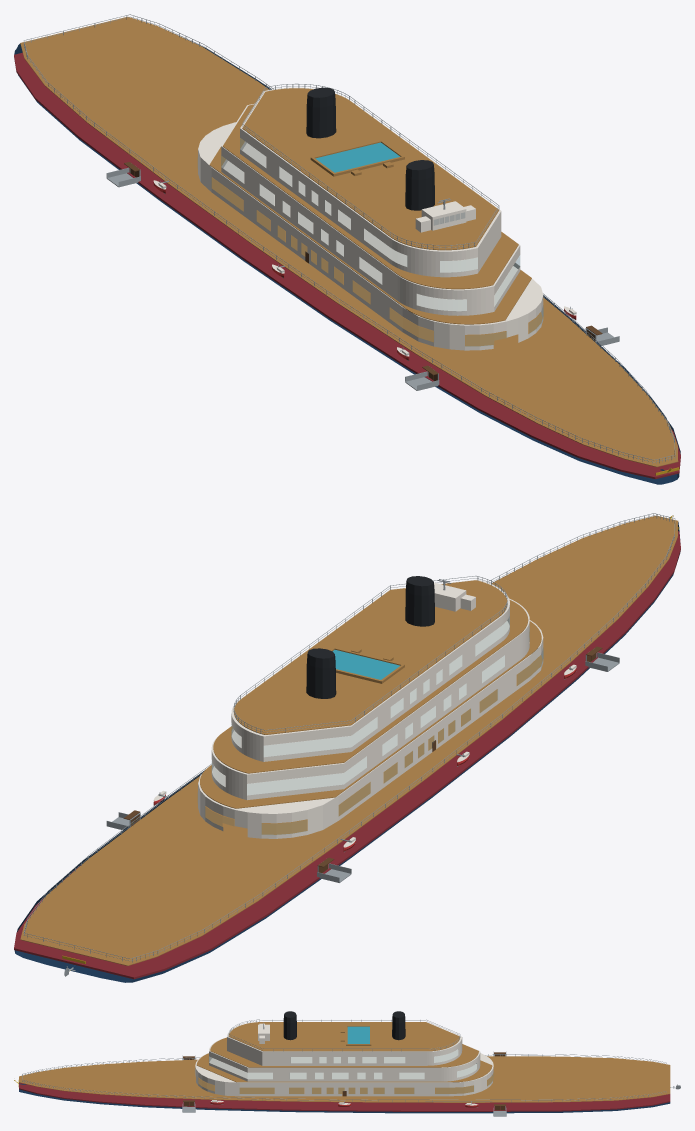
Rendered from 169-Crucero_exterior.glb.
The picture shows the model from 3 angles, top to bottom: view 1: azimuth 30°, elevation 25°; view 2: azimuth 150°, elevation 25°; view 3: azimuth 270°, elevation 25°; orthographic projection. The views are drawn at different scales.
Visible parts, largest first — view 1: SM_Crucero_Cubierta_1, SM_Crucero_Cubierta_4, SM_Crucero_Franja, SM_Crucero_Nivel_2, SM_Crucero_Nivel_1, SM_Crucero_Nivel_3, SM_Crucero_Cubierta_3, SM_Crucero_Baranda_Cub1, SM_Crucero_Casco, SM_Crucero_Cubierta_2, SM_Crucero_Ventanas_1, SM_Crucero_Ventanas_2 (+6 smaller); view 2: SM_Crucero_Cubierta_1, SM_Crucero_Cubierta_4, SM_Crucero_Franja, SM_Crucero_Nivel_2, SM_Crucero_Nivel_3, SM_Crucero_Nivel_1, SM_Crucero_Cubierta_3, SM_Crucero_Baranda_Cub1, SM_Crucero_Casco, SM_Crucero_Cubierta_2, SM_Crucero_Ventanas_2, SM_Crucero_Ventanas_3 (+5 smaller); view 3: SM_Crucero_Cubierta_1, SM_Crucero_Franja, SM_Crucero_Cubierta_4, SM_Crucero_Nivel_2, SM_Crucero_Nivel_1, SM_Crucero_Nivel_3, SM_Crucero_Baranda_Cub1, SM_Crucero_Casco, SM_Crucero_Cubierta_3, SM_Crucero_Cubierta_2, SM_Crucero_Ventanas_1, SM_Crucero_Ventanas_2 (+5 smaller).
Boxes of the visible parts, bbox=[...] form: SM_Crucero_Cubierta_1: bbox=[20, 16, 678, 467]; SM_Crucero_Cubierta_4: bbox=[242, 88, 498, 250]; SM_Crucero_Franja: bbox=[14, 52, 680, 479]; SM_Crucero_Nivel_2: bbox=[221, 103, 520, 315]; SM_Crucero_Nivel_1: bbox=[198, 122, 543, 350]; SM_Crucero_Nivel_3: bbox=[240, 87, 501, 277]; SM_Crucero_Cubierta_3: bbox=[222, 104, 518, 289]; SM_Crucero_Baranda_Cub1: bbox=[23, 14, 675, 463]; SM_Crucero_Casco: bbox=[14, 33, 680, 484]; SM_Crucero_Cubierta_2: bbox=[209, 146, 531, 324]; SM_Crucero_Ventanas_1: bbox=[211, 177, 543, 346]; SM_Crucero_Ventanas_2: bbox=[221, 156, 519, 310]; SM_Crucero_Cubierta_1: bbox=[20, 515, 678, 965]; SM_Crucero_Cubierta_4: bbox=[234, 580, 507, 734]; SM_Crucero_Franja: bbox=[14, 531, 680, 979]; SM_Crucero_Nivel_2: bbox=[211, 598, 529, 800]; SM_Crucero_Nivel_3: bbox=[231, 579, 509, 761]; SM_Crucero_Nivel_1: bbox=[198, 620, 543, 838]; SM_Crucero_Cubierta_3: bbox=[213, 600, 528, 773]; SM_Crucero_Baranda_Cub1: bbox=[23, 513, 675, 962]; SM_Crucero_Casco: bbox=[14, 522, 680, 982]; SM_Crucero_Cubierta_2: bbox=[200, 621, 541, 808]; SM_Crucero_Ventanas_2: bbox=[212, 631, 529, 794]; SM_Crucero_Ventanas_3: bbox=[231, 619, 508, 756]; SM_Crucero_Cubierta_1: bbox=[19, 1056, 670, 1102]; SM_Crucero_Franja: bbox=[19, 1082, 670, 1111]; SM_Crucero_Cubierta_4: bbox=[228, 1022, 459, 1051]; SM_Crucero_Nivel_2: bbox=[209, 1037, 480, 1081]; SM_Crucero_Nivel_1: bbox=[195, 1053, 493, 1096]; SM_Crucero_Nivel_3: bbox=[227, 1022, 462, 1065]; SM_Crucero_Baranda_Cub1: bbox=[22, 1054, 666, 1101]; SM_Crucero_Casco: bbox=[19, 1089, 670, 1113]; SM_Crucero_Cubierta_3: bbox=[210, 1037, 478, 1067]; SM_Crucero_Cubierta_2: bbox=[196, 1053, 492, 1082]; SM_Crucero_Ventanas_1: bbox=[198, 1075, 493, 1093]; SM_Crucero_Ventanas_2: bbox=[209, 1057, 476, 1078].
Size of the model in its own units: 52.18 by 29.4 by 236.
